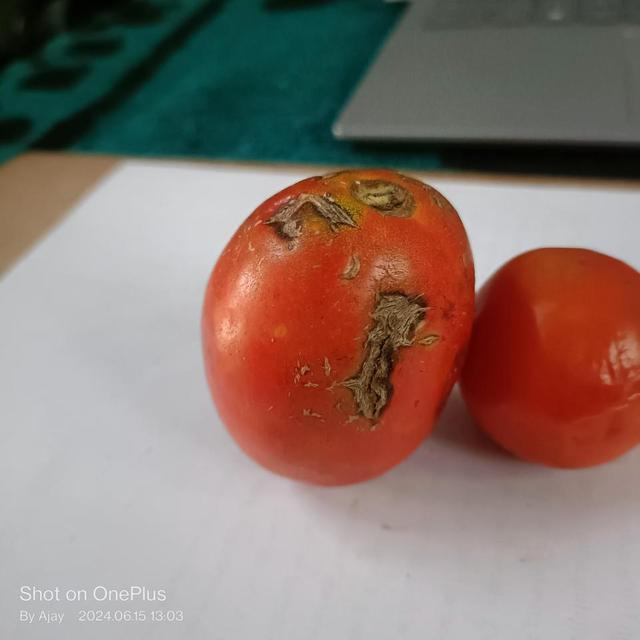Bacterial Spot Fruit: (17, 18, 260, 253)
